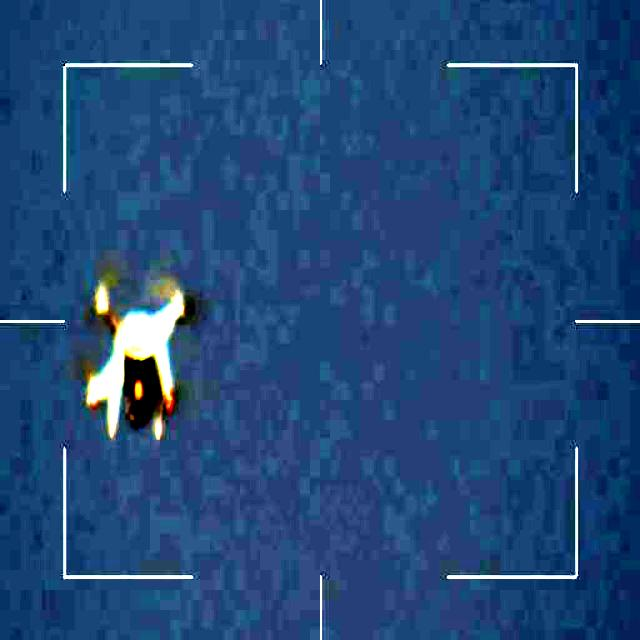bird: (75, 281, 194, 449)
